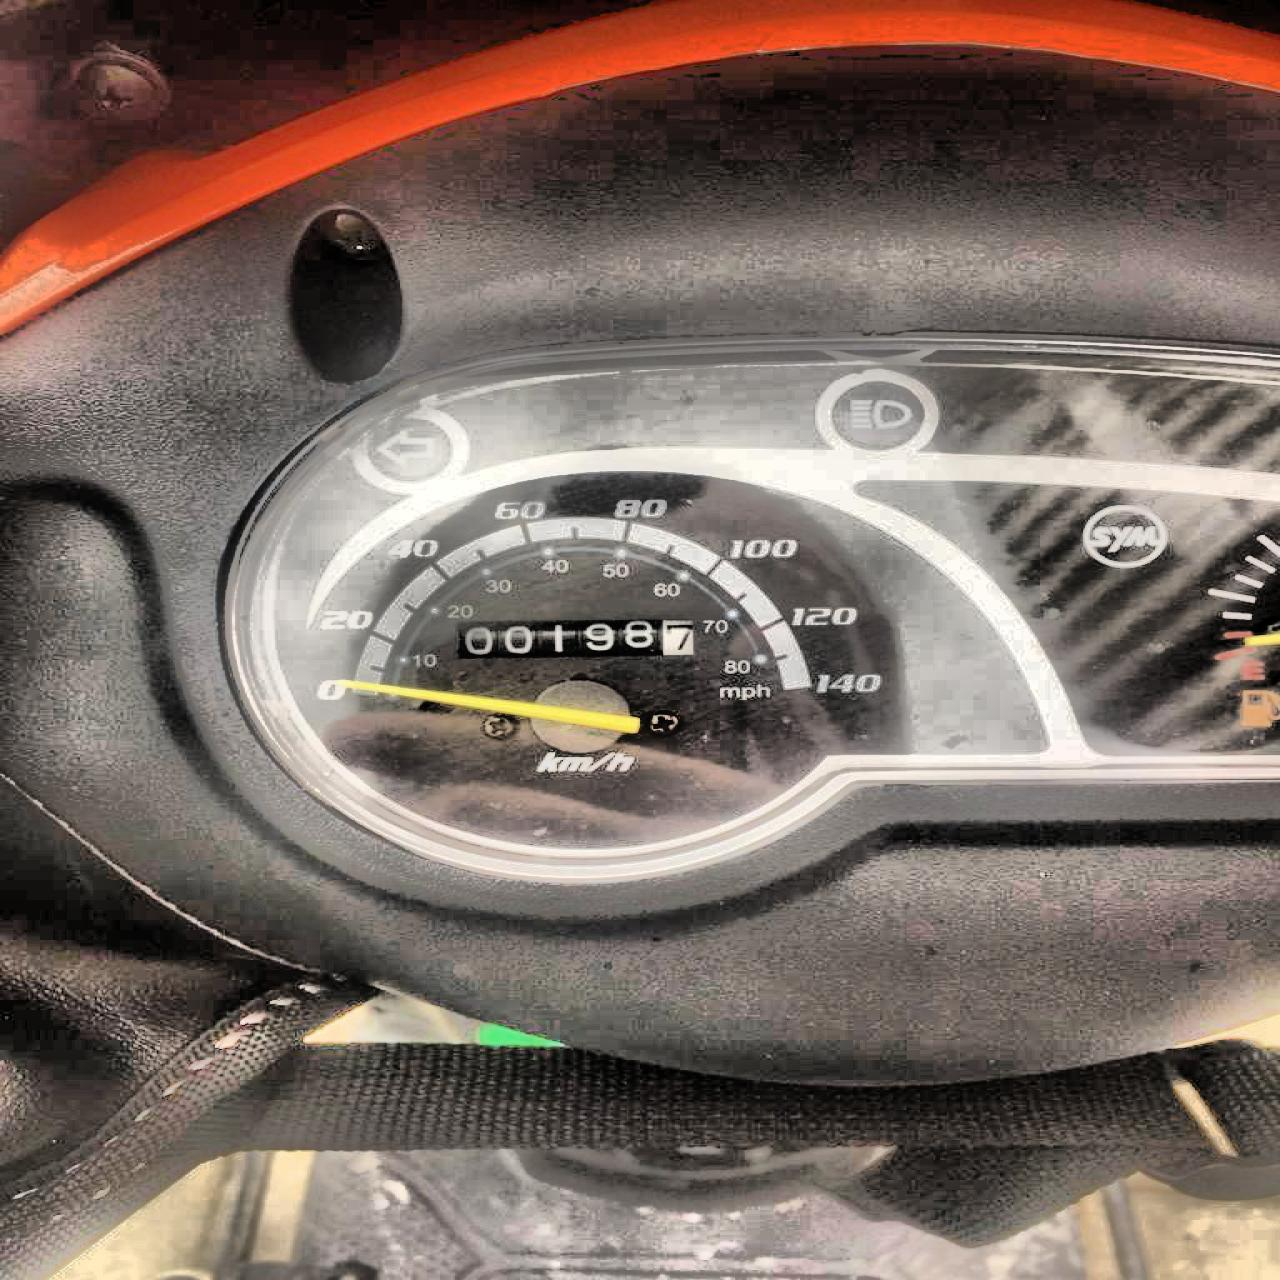0: (459, 625, 493, 655), (502, 624, 531, 655)
1: (546, 620, 566, 654)
7: (662, 622, 693, 652)
8: (621, 619, 653, 647)
9: (581, 620, 613, 651)
odometer: (447, 614, 700, 663)
